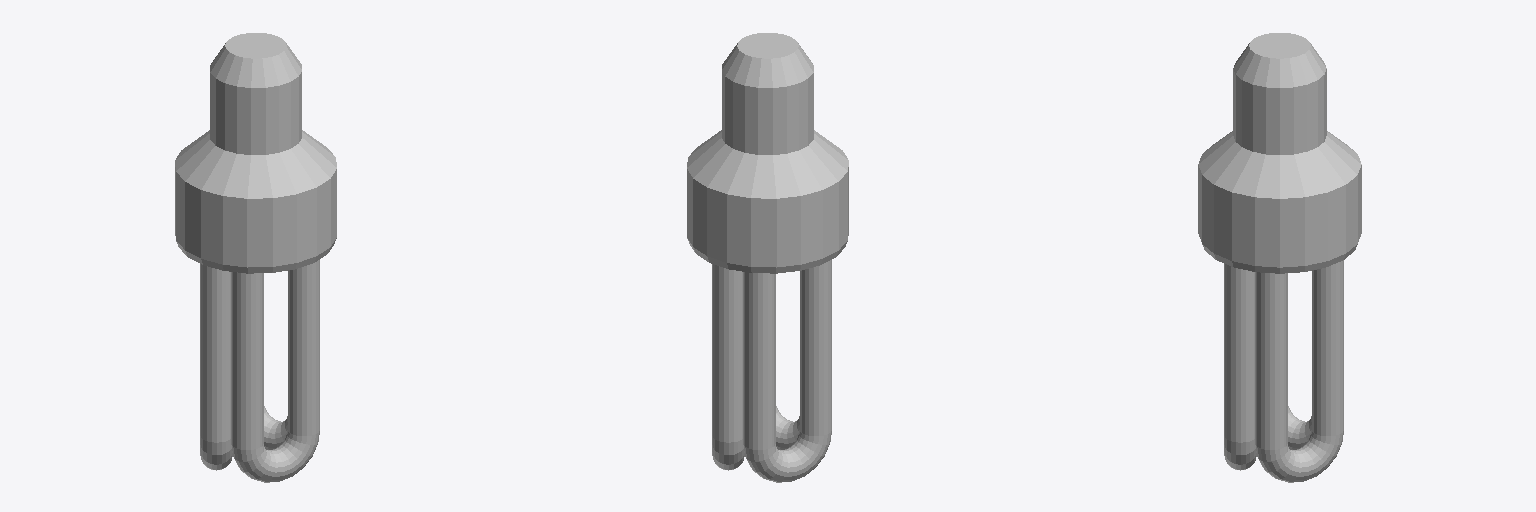
The model's file is bulb.obj.
3 renders of one model, left to right at view 1: azimuth 30°, elevation 25°; view 2: azimuth 150°, elevation 25°; view 3: azimuth 270°, elevation 25°, orthographic.
Visible parts, largest first — view 1: polySurface3, Quarto_Lampada:polySurface2 Quarto_Lampada:polySurface3 polySurf, Quarto_Lampada:pTorus7 Quarto_Lampada:polySurface3 Quarto_Lampad; view 2: polySurface3, Quarto_Lampada:polySurface2 Quarto_Lampada:polySurface3 polySurf, Quarto_Lampada:pTorus7 Quarto_Lampada:polySurface3 Quarto_Lampad; view 3: polySurface3, Quarto_Lampada:polySurface2 Quarto_Lampada:polySurface3 polySurf, Quarto_Lampada:pTorus7 Quarto_Lampada:polySurface3 Quarto_Lampad.
Part boxes in pixels (bbox=[...]): polySurface3: bbox=[175, 33, 336, 273]; Quarto_Lampada:polySurface2 Quarto_Lampada:polySurface3 polySurf: bbox=[200, 260, 319, 480]; Quarto_Lampada:pTorus7 Quarto_Lampada:polySurface3 Quarto_Lampad: bbox=[231, 272, 306, 482]; polySurface3: bbox=[687, 33, 848, 273]; Quarto_Lampada:polySurface2 Quarto_Lampada:polySurface3 polySurf: bbox=[712, 260, 831, 480]; Quarto_Lampada:pTorus7 Quarto_Lampada:polySurface3 Quarto_Lampad: bbox=[743, 272, 818, 482]; polySurface3: bbox=[1198, 33, 1361, 273]; Quarto_Lampada:polySurface2 Quarto_Lampada:polySurface3 polySurf: bbox=[1224, 260, 1343, 480]; Quarto_Lampada:pTorus7 Quarto_Lampada:polySurface3 Quarto_Lampad: bbox=[1255, 272, 1330, 482].
Bounding box in the file's own units: 40.12 × 114 × 40.12.